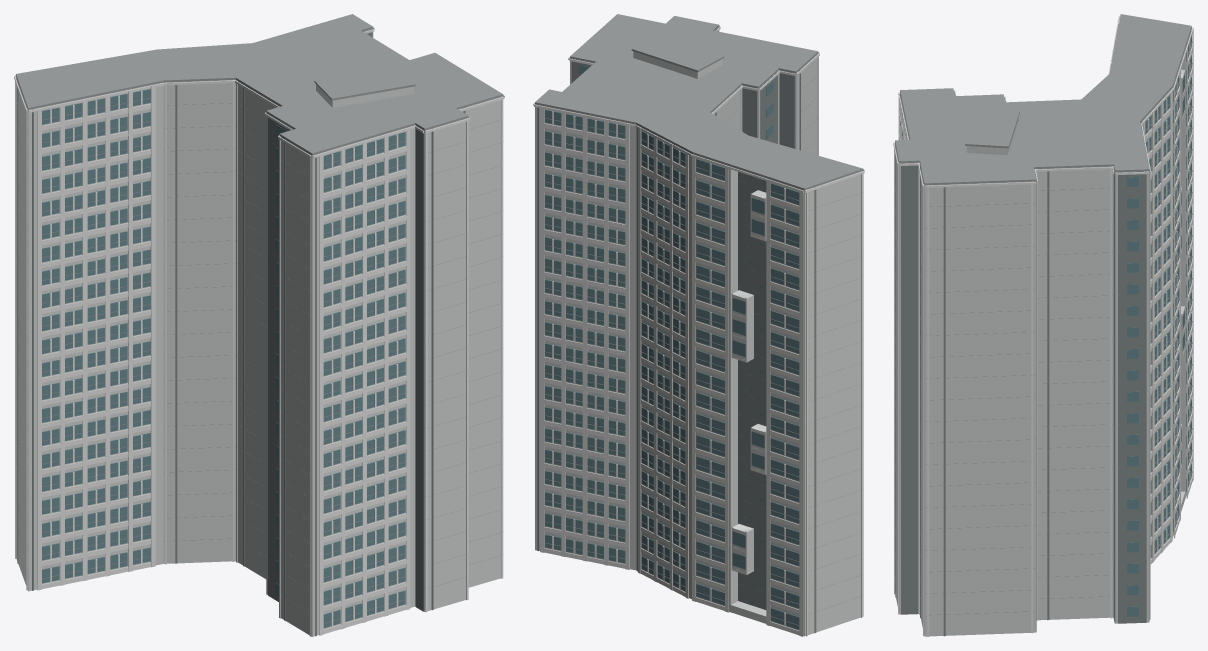
The model's file is bespoke-seoulforest-riverview-xi-107.glb.
3 views of the same model, side by side, from view 1: azimuth 30°, elevation 25°; view 2: azimuth 150°, elevation 25°; view 3: azimuth 270°, elevation 25° (orthographic). The views are drawn at different scales.
Parts seen in each view (by area): view 1: SFRX107_editable_SFRX107_light_grey_solid_wall, SFRX107_editable_SFRX107_broad_white_facade_frames, SFRX107_editable_SFRX107_blue_grey_horizontal_glazing, SFRX107_editable_SFRX107_modest_grey_flat_roof_caps, SFRX107_editable_SFRX107_deep_gray_recessed_service_wall, SFRX107_editable_SFRX107_dark_horizontal_spandrels_and_mulli; view 2: SFRX107_editable_SFRX107_light_grey_solid_wall, SFRX107_editable_SFRX107_broad_white_facade_frames, SFRX107_editable_SFRX107_blue_grey_horizontal_glazing, SFRX107_editable_SFRX107_modest_grey_flat_roof_caps, SFRX107_editable_SFRX107_deep_gray_recessed_service_wall, SFRX107_editable_SFRX107_dark_horizontal_spandrels_and_mulli; view 3: SFRX107_editable_SFRX107_light_grey_solid_wall, SFRX107_editable_SFRX107_modest_grey_flat_roof_caps, SFRX107_editable_SFRX107_deep_gray_recessed_service_wall, SFRX107_editable_SFRX107_broad_white_facade_frames, SFRX107_editable_SFRX107_blue_grey_horizontal_glazing, SFRX107_editable_SFRX107_dark_horizontal_spandrels_and_mulli.
Boxes of the visible parts, <box> form: SFRX107_editable_SFRX107_light_grey_solid_wall: <box>16,28,502,636</box>; SFRX107_editable_SFRX107_broad_white_facade_frames: <box>14,27,504,636</box>; SFRX107_editable_SFRX107_blue_grey_horizontal_glazing: <box>42,89,405,628</box>; SFRX107_editable_SFRX107_modest_grey_flat_roof_caps: <box>16,14,503,612</box>; SFRX107_editable_SFRX107_deep_gray_recessed_service_wall: <box>17,29,465,636</box>; SFRX107_editable_SFRX107_dark_horizontal_spandrels_and_mulli: <box>42,98,405,623</box>; SFRX107_editable_SFRX107_light_grey_solid_wall: <box>535,27,863,636</box>; SFRX107_editable_SFRX107_broad_white_facade_frames: <box>533,25,864,636</box>; SFRX107_editable_SFRX107_blue_grey_horizontal_glazing: <box>545,65,799,629</box>; SFRX107_editable_SFRX107_modest_grey_flat_roof_caps: <box>535,14,863,615</box>; SFRX107_editable_SFRX107_deep_gray_recessed_service_wall: <box>537,27,816,632</box>; SFRX107_editable_SFRX107_dark_horizontal_spandrels_and_mulli: <box>544,118,799,625</box>; SFRX107_editable_SFRX107_light_grey_solid_wall: <box>895,29,1191,636</box>; SFRX107_editable_SFRX107_modest_grey_flat_roof_caps: <box>895,14,1191,615</box>; SFRX107_editable_SFRX107_deep_gray_recessed_service_wall: <box>895,93,1149,636</box>; SFRX107_editable_SFRX107_broad_white_facade_frames: <box>893,15,1193,636</box>; SFRX107_editable_SFRX107_blue_grey_horizontal_glazing: <box>900,35,1191,616</box>; SFRX107_editable_SFRX107_dark_horizontal_spandrels_and_mulli: <box>899,41,1192,554</box>.
Size of the model in its own units: 49.14 by 62 by 36.49.
